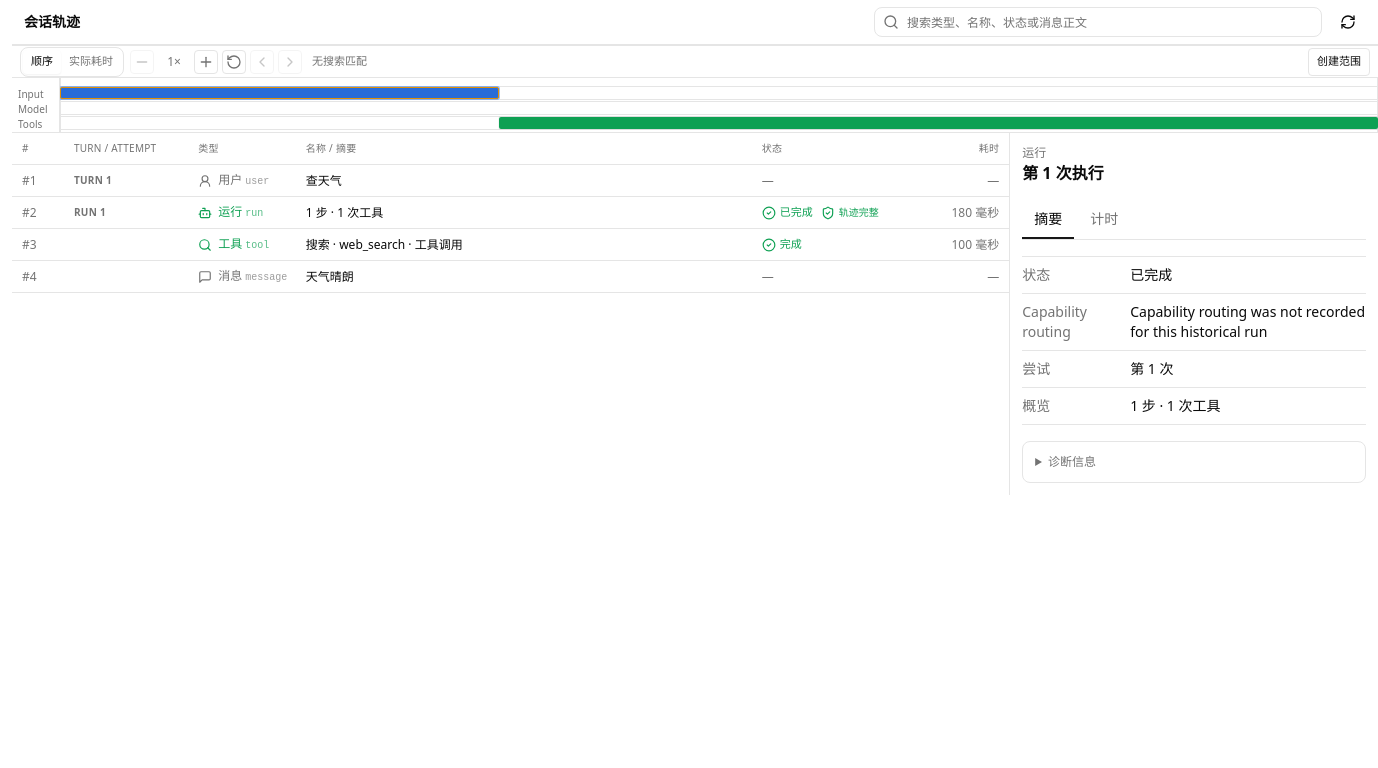
Scenario: TrajectoryTabView › actual 时间空洞中的激活范围显示没有匹配记录，不回退全表
Expected: the option "#3 工具 tool 搜索 · web_search · 工具调用 完成 100 毫秒" is shown, [12,229,1009,261]
Click the button "实际耗时" at (91,62), box [61,50,121,74]
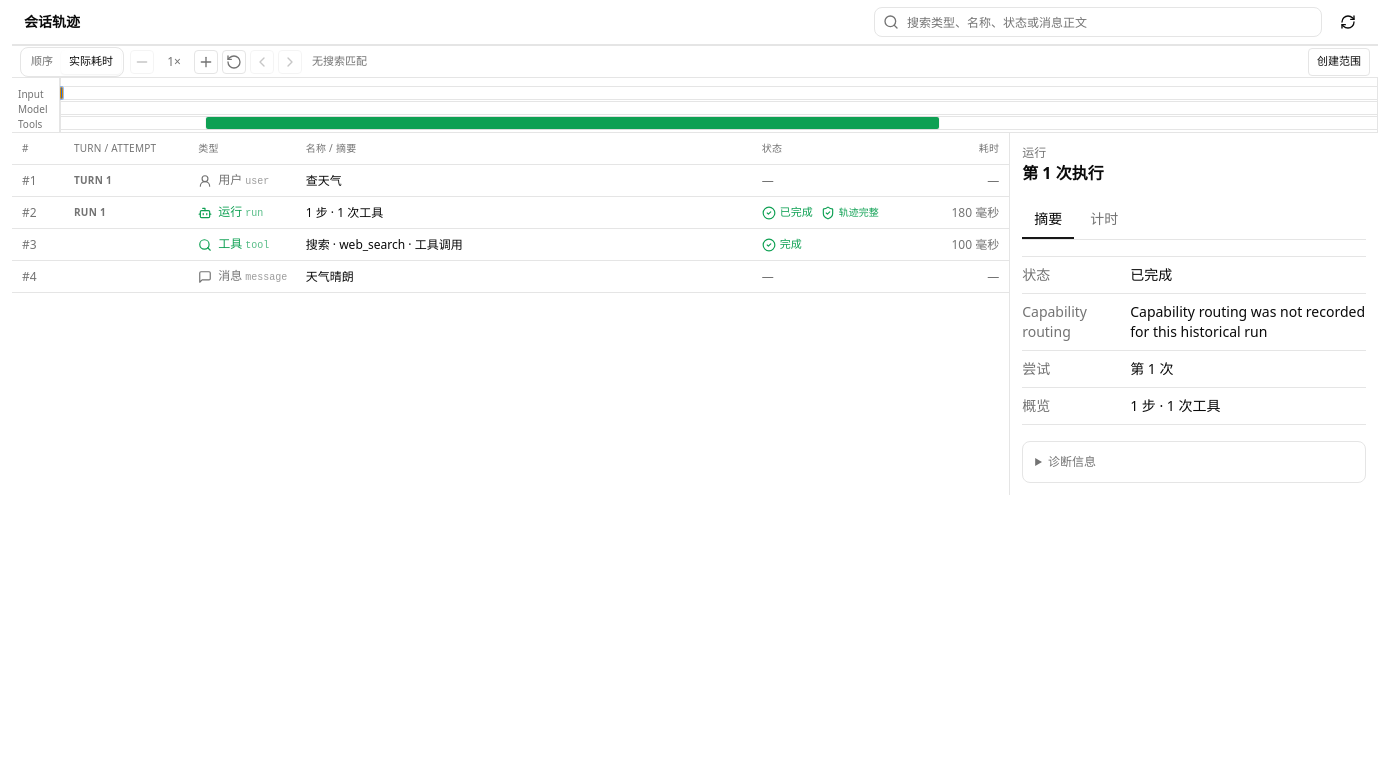
Click the button "创建范围" at (1339,62), box [1308,48,1370,76]
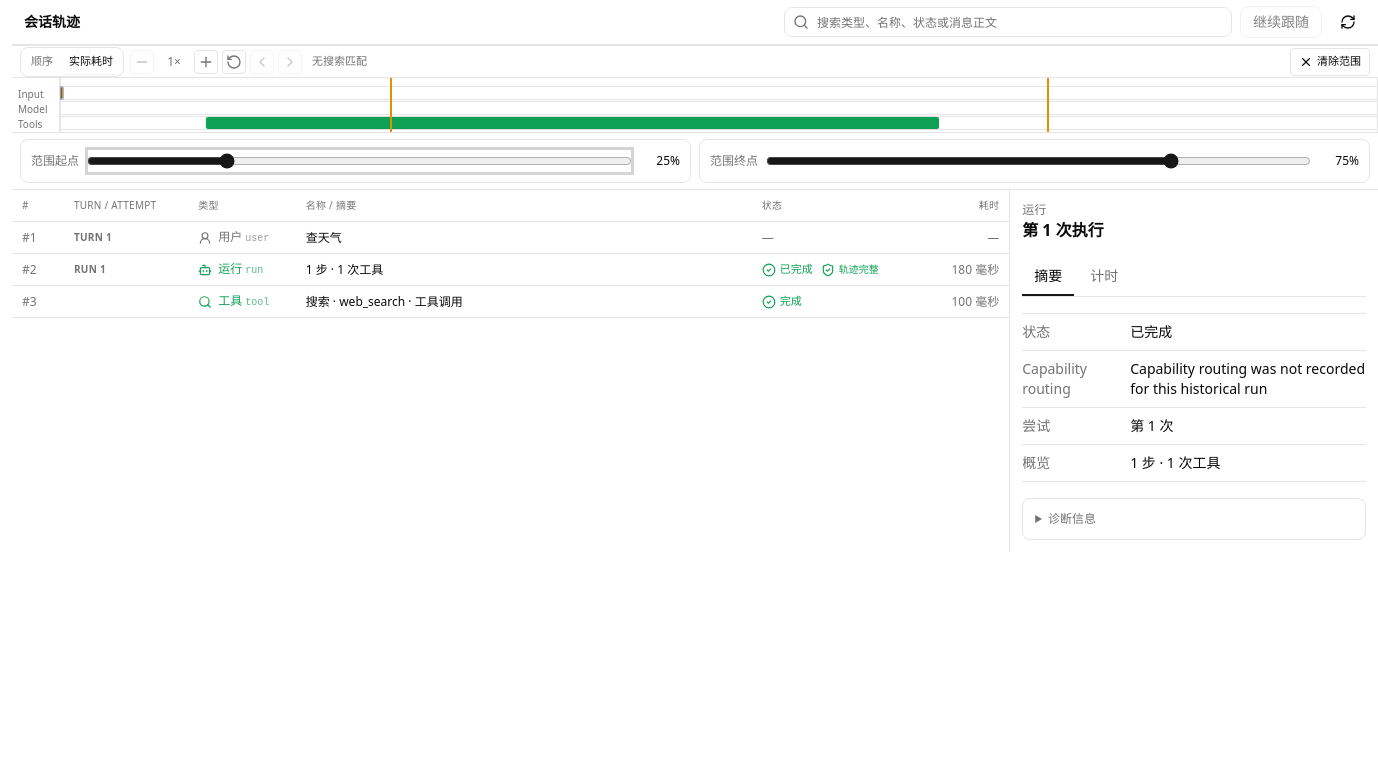
Set the slider labelled "范围起点" to "50" at (121,161), box [87,149,632,173]
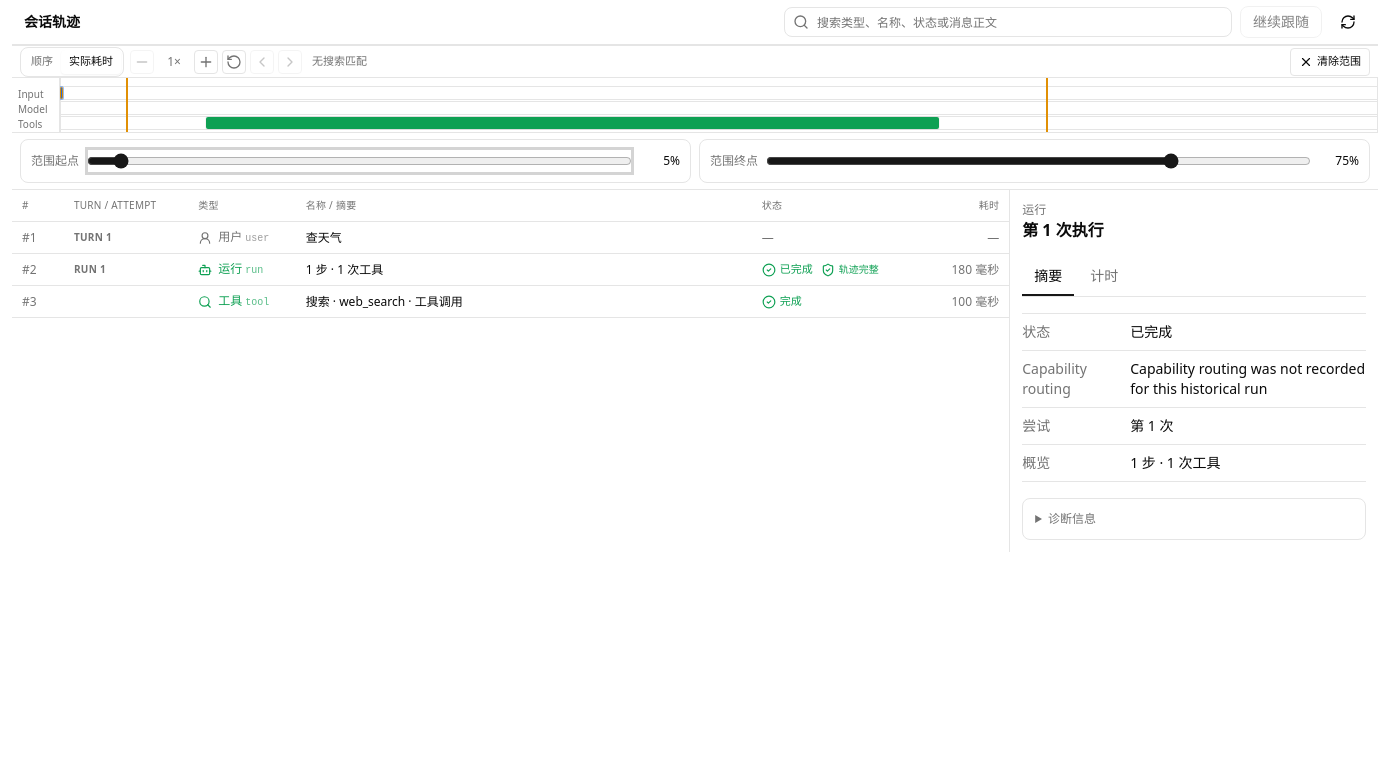
Set the slider labelled "范围终点" to "80" at (816,161), box [766,149,1311,173]
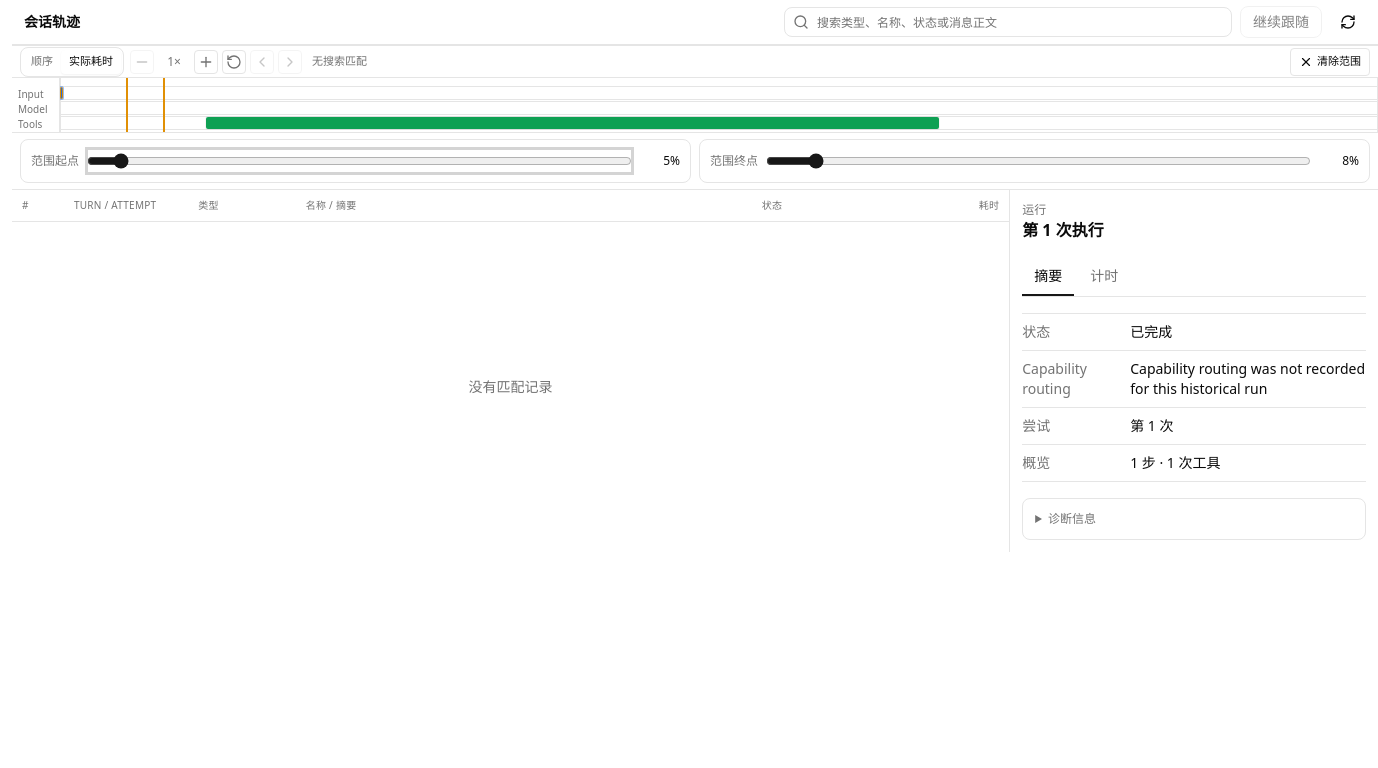
Expected: the option is gone
Expected: the text "没有匹配记录" is shown, [469,377,553,396]
